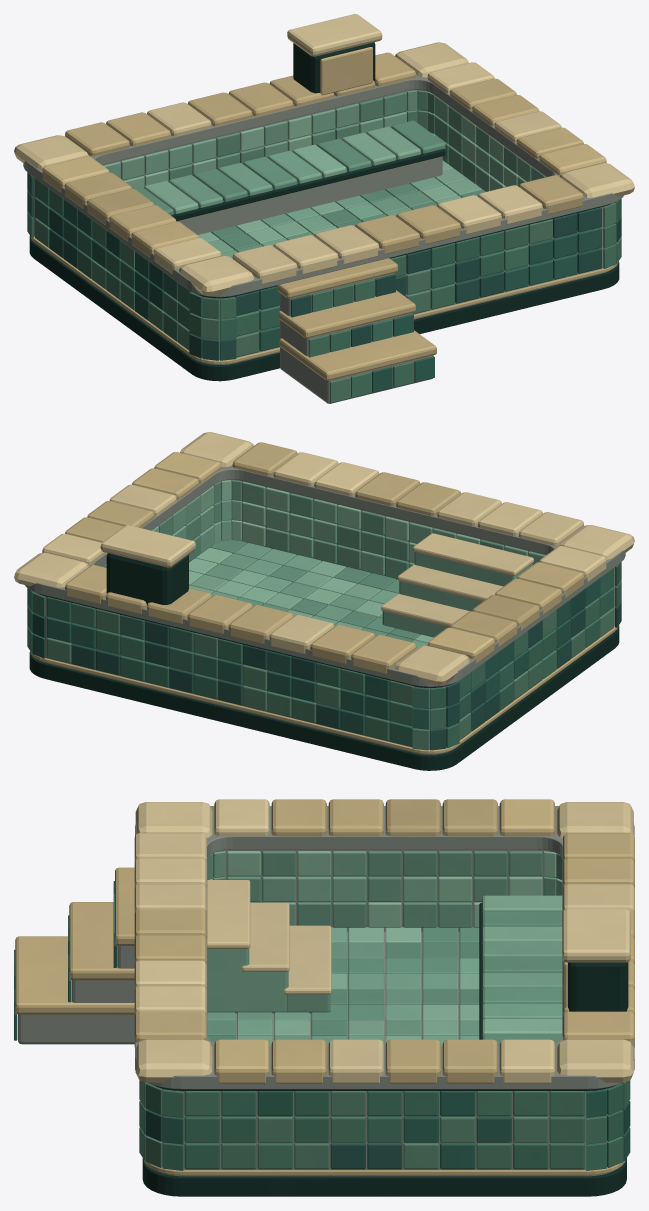
The model's file is SM_Bath_01_Body.fbx.
3 renders of one model, top to bottom at view 1: azimuth 30°, elevation 25°; view 2: azimuth 150°, elevation 25°; view 3: azimuth 270°, elevation 25°, orthographic. The views are drawn at different scales.
Visible parts, largest first — view 1: SM_Bath_01_Body; view 2: SM_Bath_01_Body; view 3: SM_Bath_01_Body.
Part boxes in pixels (x1=…): SM_Bath_01_Body: x1=14, y1=14, x2=634, y2=403; SM_Bath_01_Body: x1=14, y1=432, x2=634, y2=770; SM_Bath_01_Body: x1=14, y1=799, x2=634, y2=1196.
Size of what is drawn, in the model's own units: 4.57 by 4.43 by 1.61.
Materials: 13 (11 with a texture image).
